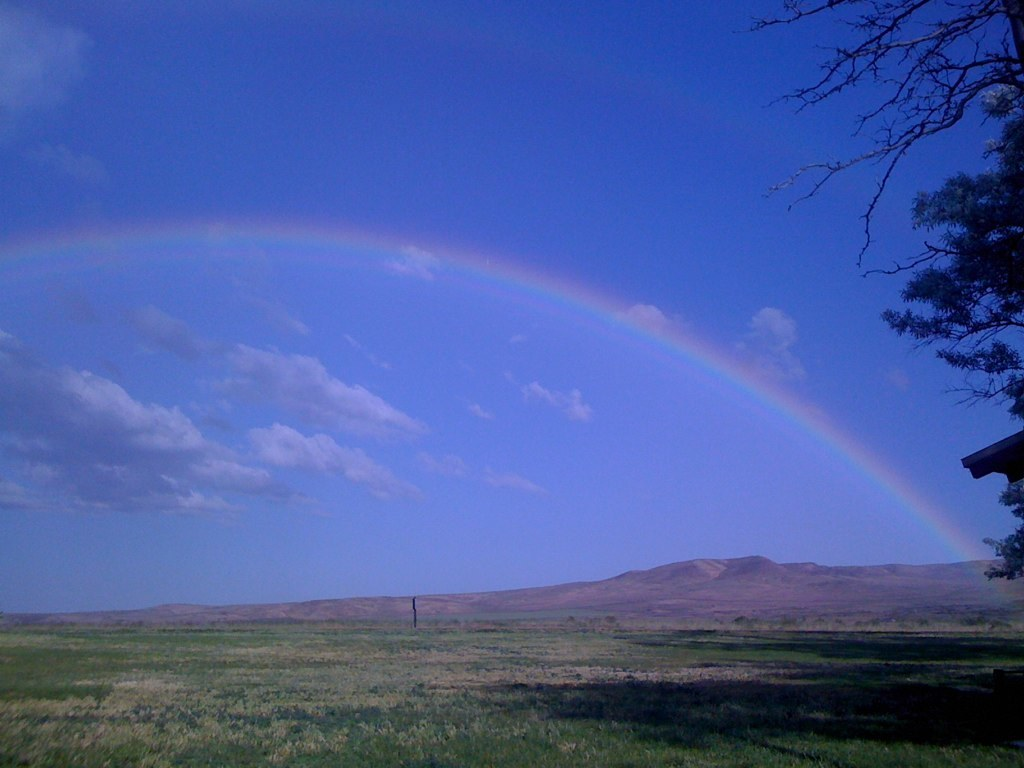Tree: (711, 0, 1022, 610)
